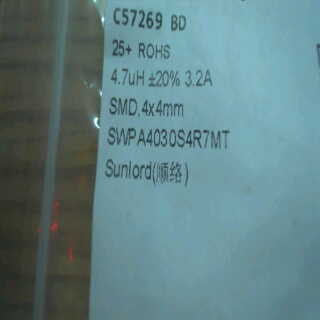4.7uH: (109, 66, 147, 87)
